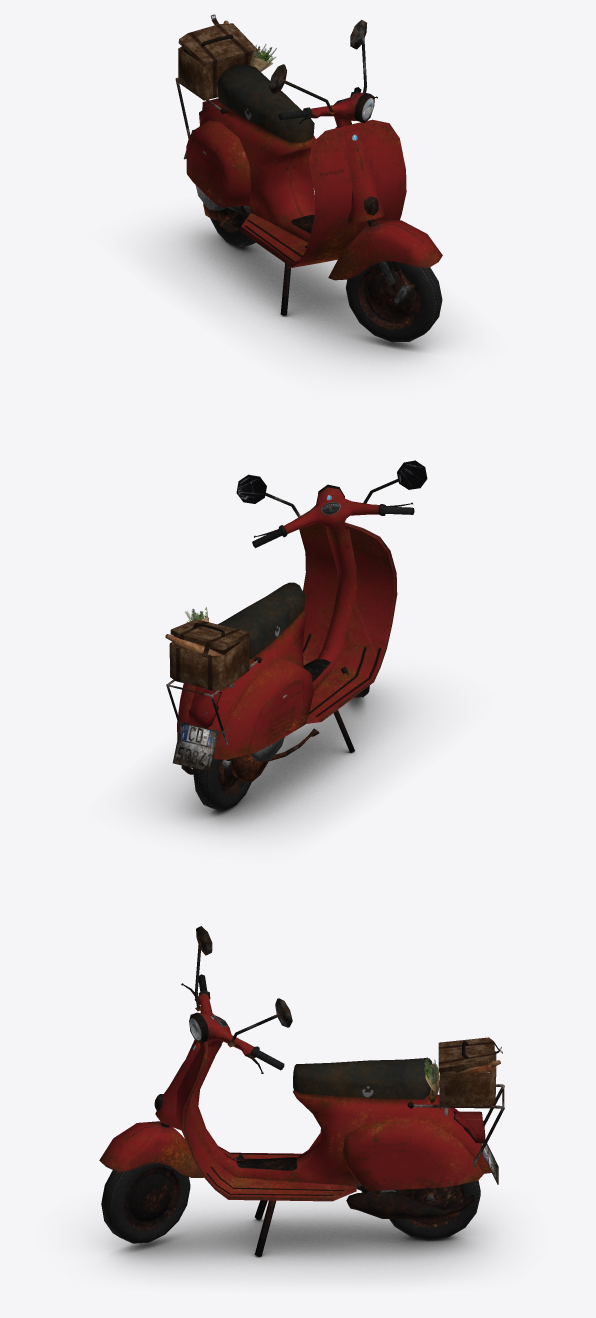
File: old_scooter_clean.glb
The picture shows the model from 3 angles, top to bottom: view 1: azimuth 30°, elevation 25°; view 2: azimuth 150°, elevation 25°; view 3: azimuth 270°, elevation 25°; orthographic projection.
Visible parts, largest first — view 1: Object_4, Object_3; view 2: Object_4, Object_3; view 3: Object_4, Object_3.
Part boxes in pixels (x1,y1,x2,y2): Object_4: [175, 14, 442, 342]; Object_3: [130, 209, 472, 379]; Object_4: [165, 460, 427, 810]; Object_3: [125, 671, 453, 845]; Object_4: [99, 926, 504, 1256]; Object_3: [74, 1191, 514, 1285].
Bounding box in the file's own units: 164 × 155 × 289.
Materials: 2 (2 with a texture image).
